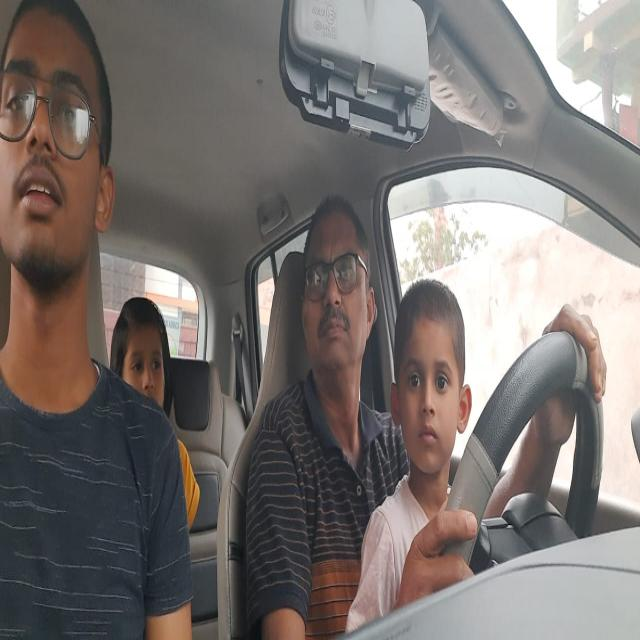child: (390, 275, 474, 484)
person: (2, 0, 122, 320), (296, 191, 378, 408), (113, 281, 175, 413)
